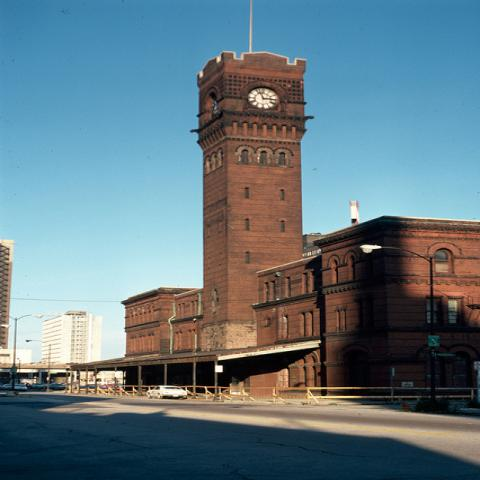car: (146, 385, 187, 398), (36, 384, 64, 390), (9, 384, 28, 391)
